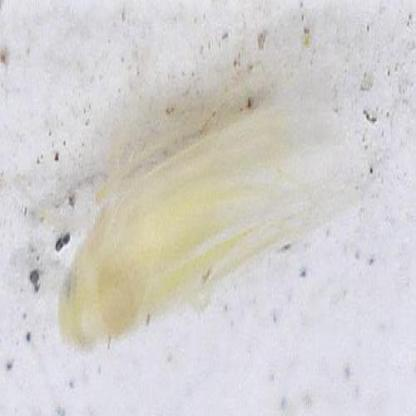green-leafhopper: (58, 88, 358, 353)
